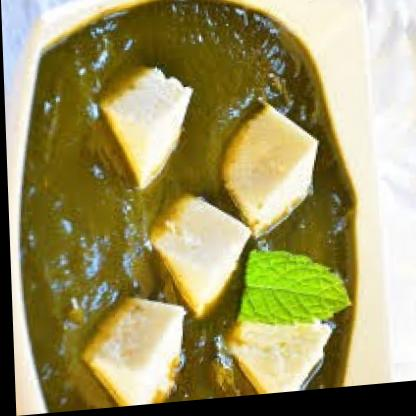palak_paneer: (9, 0, 359, 415)
